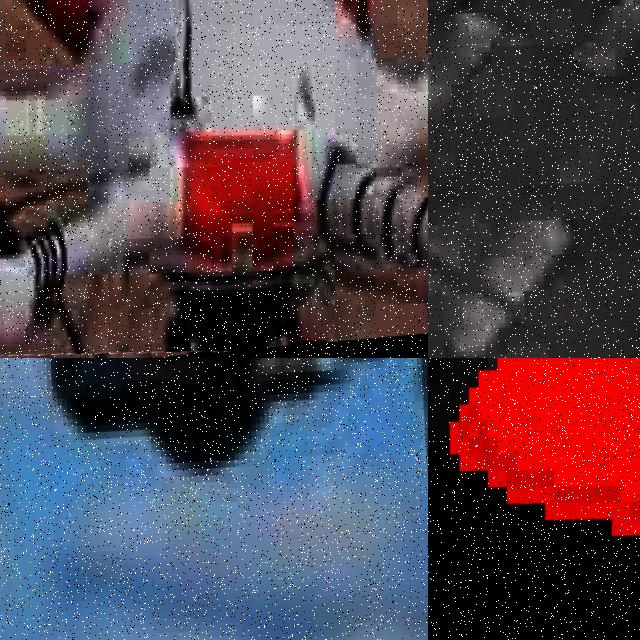0: (0, 0, 428, 358)
drone: (428, 358, 640, 640)
